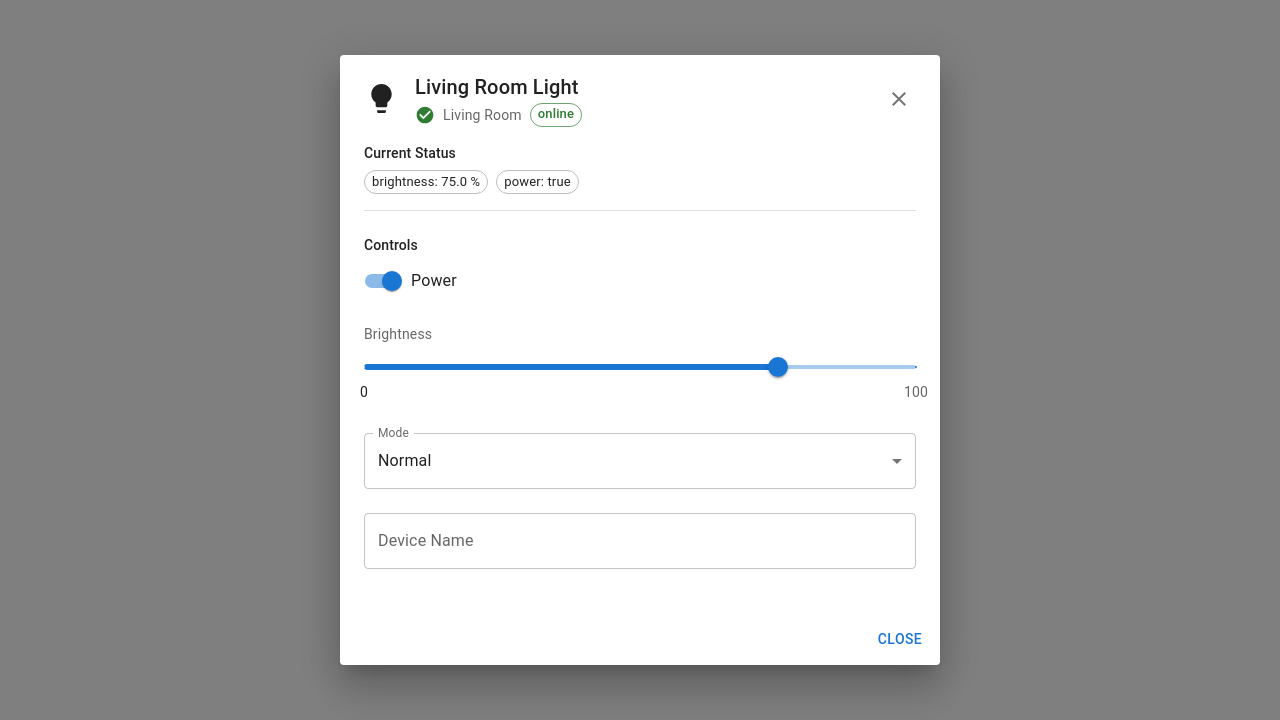
Scenario: DeviceControlPanel › displays error message when update fails
The width and height of the screenshot is (1280, 720).
Click the checkbox at (411, 281), box top-left (365, 271), bottom-right (457, 291)
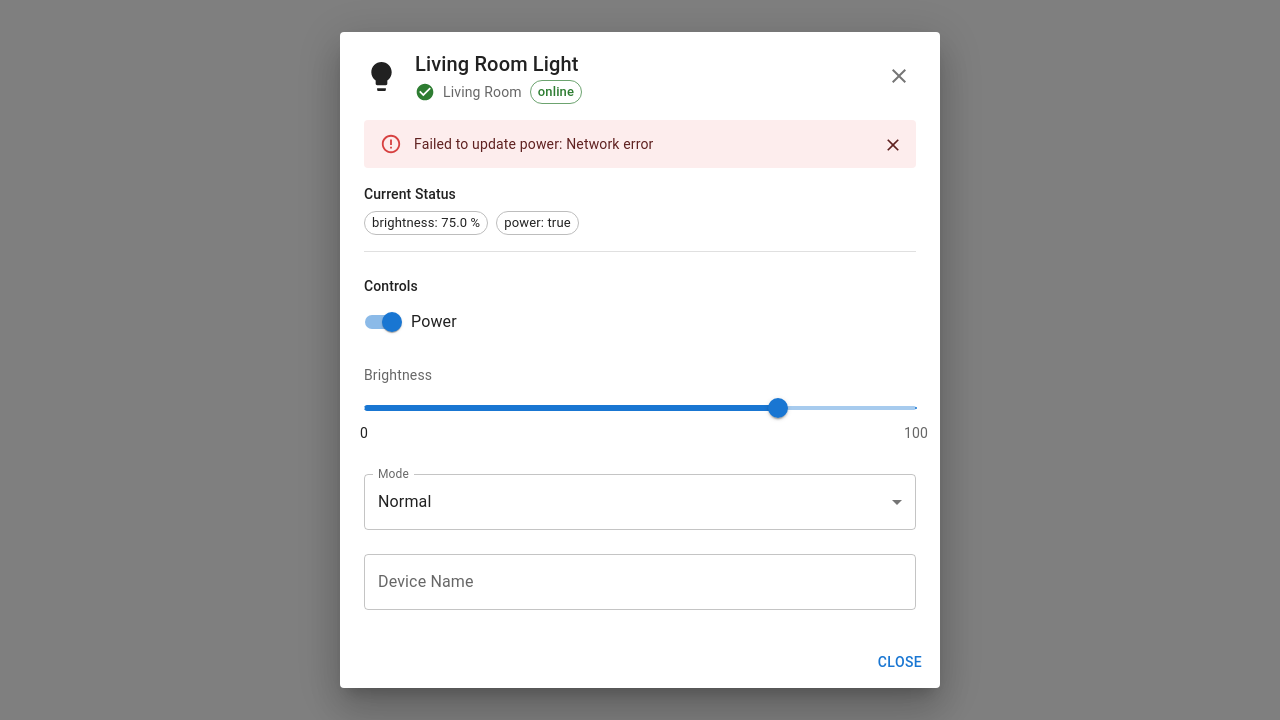
expect the text "Failed to update power: Network error" is shown: met, box top-left (414, 136), bottom-right (654, 152)
